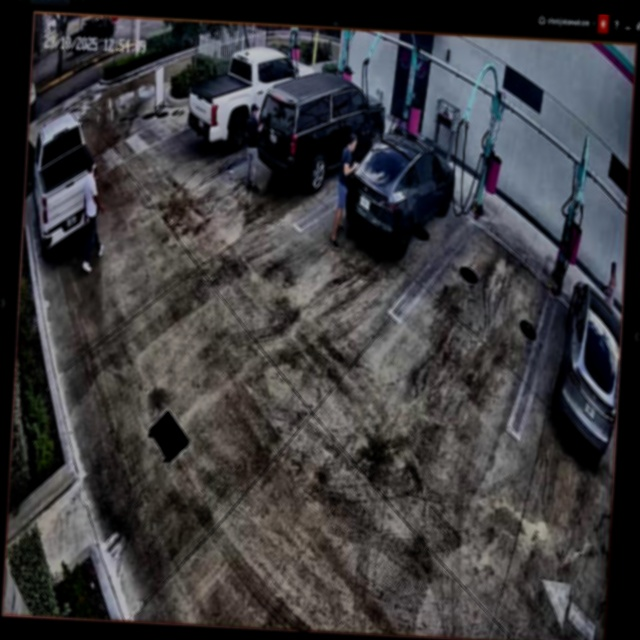Car: (255, 69, 387, 192), (343, 127, 456, 263)
